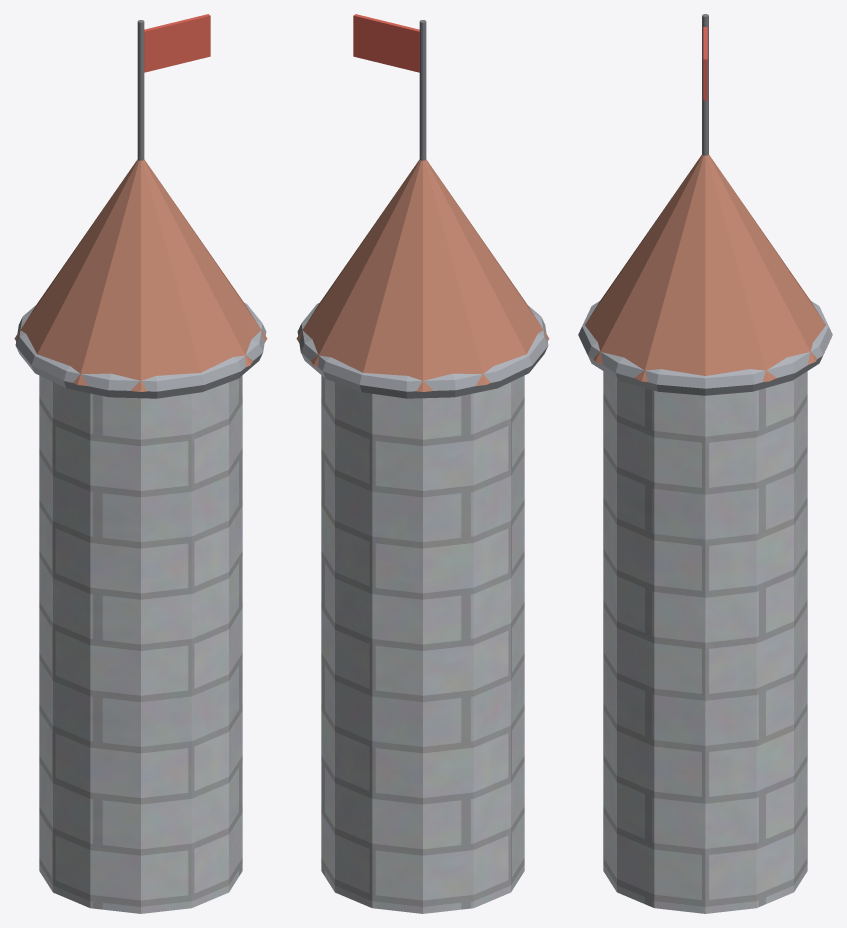
File: watch.glb
The picture shows the model from 3 angles, left to right: view 1: azimuth 30°, elevation 25°; view 2: azimuth 150°, elevation 25°; view 3: azimuth 270°, elevation 25°; orthographic projection.
Parts seen in each view (by area): view 1: watch shaft, watch cone, watch ring, watch flag, watch pole; view 2: watch shaft, watch cone, watch ring, watch flag, watch pole; view 3: watch shaft, watch cone, watch ring, watch pole.
Part boxes in pixels (box(x1,y1,x2,y2)): watch shaft: box(39, 375, 242, 913); watch cone: box(14, 159, 267, 391); watch ring: box(15, 303, 266, 398); watch flag: box(144, 14, 210, 72); watch pole: box(137, 20, 144, 160); watch shaft: box(321, 375, 524, 913); watch cone: box(296, 159, 549, 391); watch ring: box(297, 303, 548, 398); watch flag: box(353, 14, 419, 72); watch pole: box(419, 20, 426, 160); watch shaft: box(603, 371, 807, 913); watch cone: box(585, 154, 825, 381); watch ring: box(578, 301, 832, 395); watch pole: box(702, 14, 708, 155).
Size of the model in its own units: 1.12 by 4.15 by 1.12.
5 materials, 1 textured.
